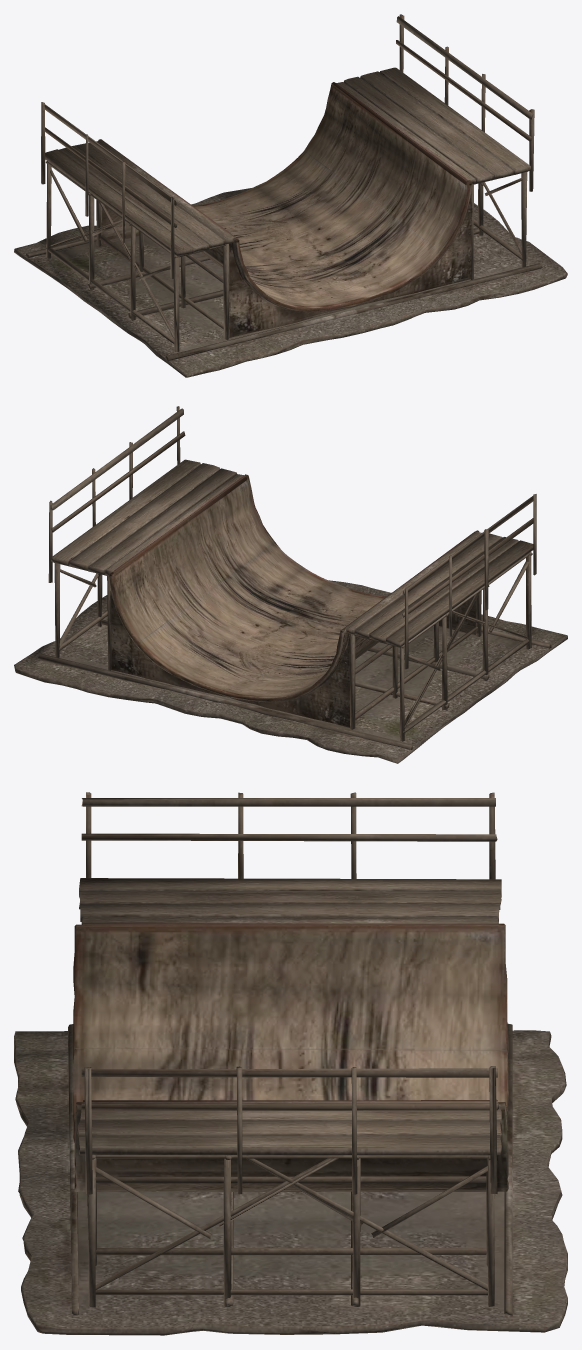
The model's file is ramp2.glb.
3 views of the same model, one above another, from view 1: azimuth 30°, elevation 25°; view 2: azimuth 150°, elevation 25°; view 3: azimuth 270°, elevation 25° (orthographic). The views are drawn at different scales.
Parts seen in each view (by area): view 1: mesh_node; view 2: mesh_node; view 3: mesh_node.
Boxes of the visible parts, box(x1,y1,x2,y2) form: mesh_node: box(14, 14, 567, 377); mesh_node: box(14, 406, 567, 763); mesh_node: box(14, 792, 567, 1335).
Bounding box in the file's own units: 1 × 0.3936 × 0.7832.
Materials: 1 (1 with a texture image).
